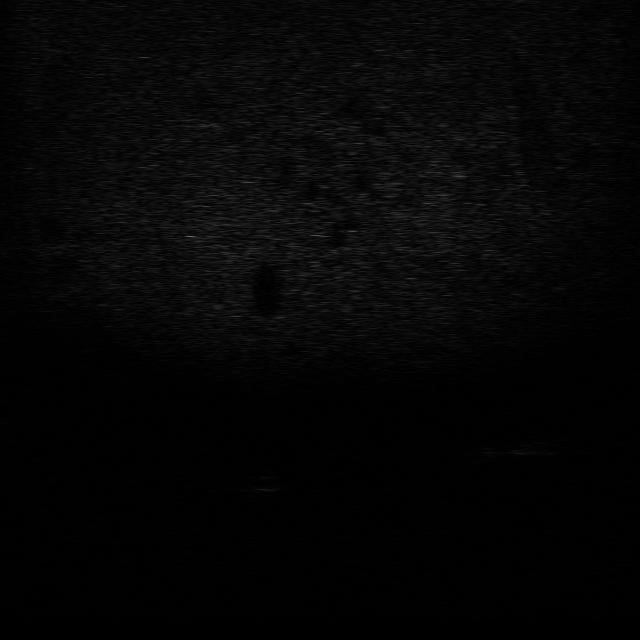ball: (241, 471, 289, 494)
human body: (472, 429, 572, 462)
